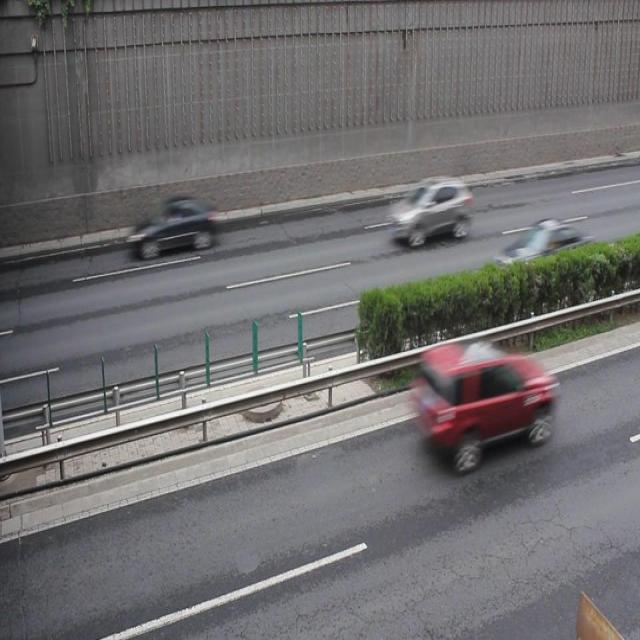car: (416, 334, 553, 464), (498, 217, 589, 286), (389, 174, 473, 248), (129, 193, 217, 257)
